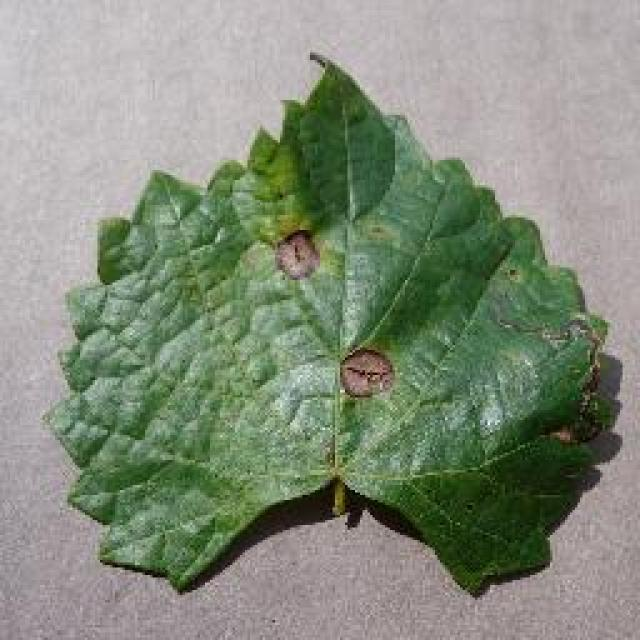Grape___Black_rot: (37, 47, 611, 601)
